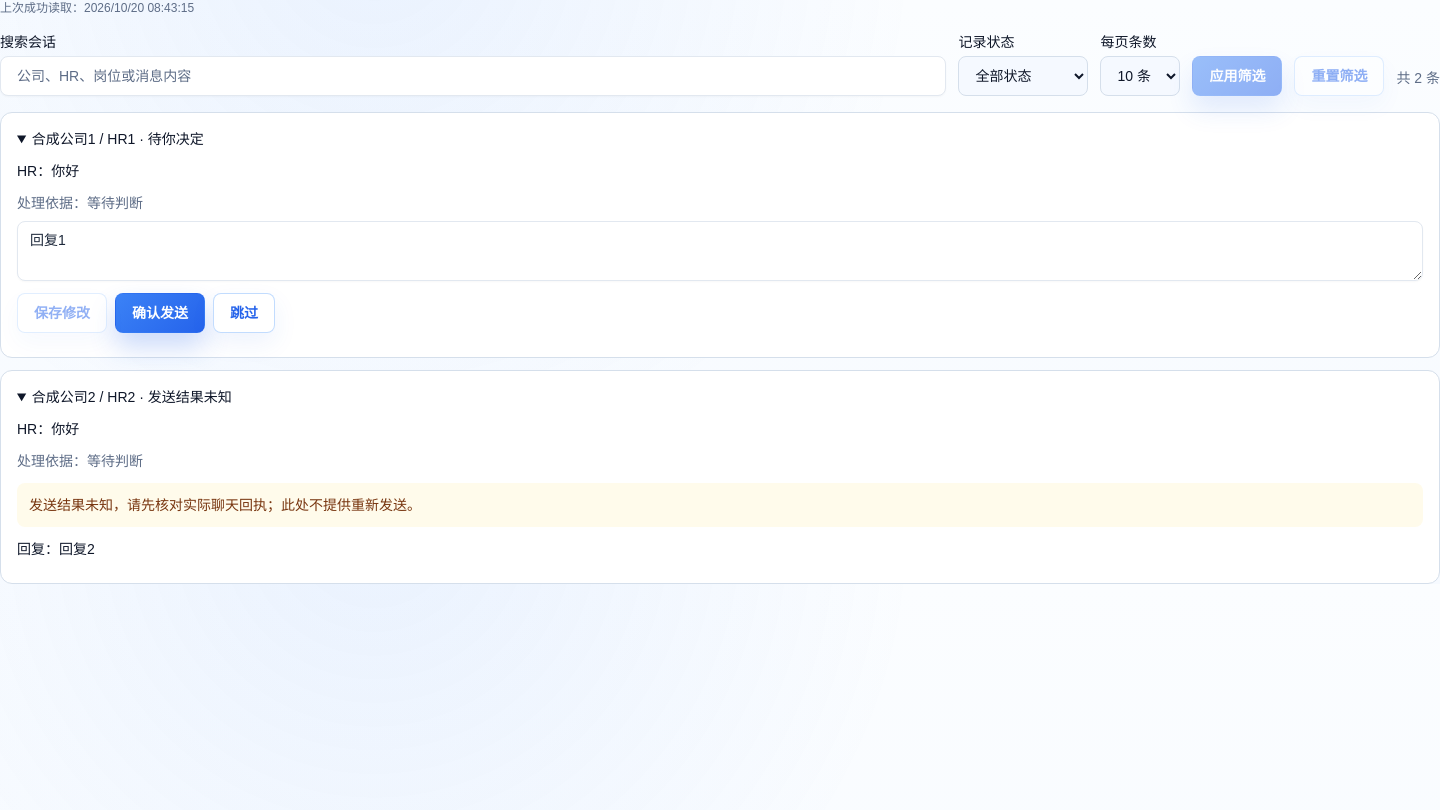
Test: applies edited filters explicitly and preserves reply drafts after searching and resetting
Expected: the heading "合成公司1 / HR1 · 待你决定" is shown, [32,131,204,147]
Expected: the text "发送结果未知，请先核对实际聊天回执；此处不提供重新发送。" is shown, [17,483,1423,527]
Replace the text in the text box named "回复 HR1" with "核对后答复": [720, 251] box [17,221,1423,281]
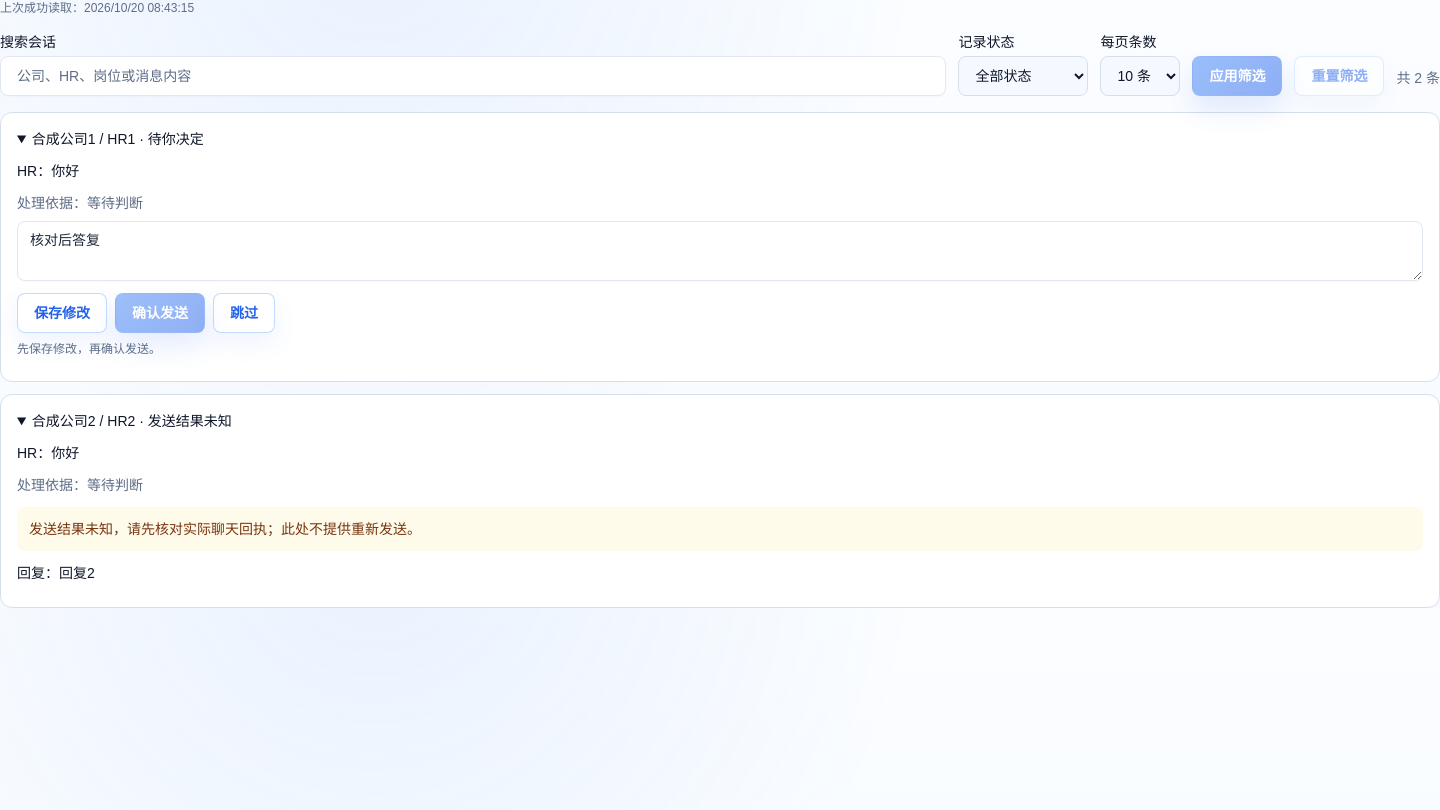
In the field labelled "搜索会话": [473, 76] box [0,56,946,96], type "未知"
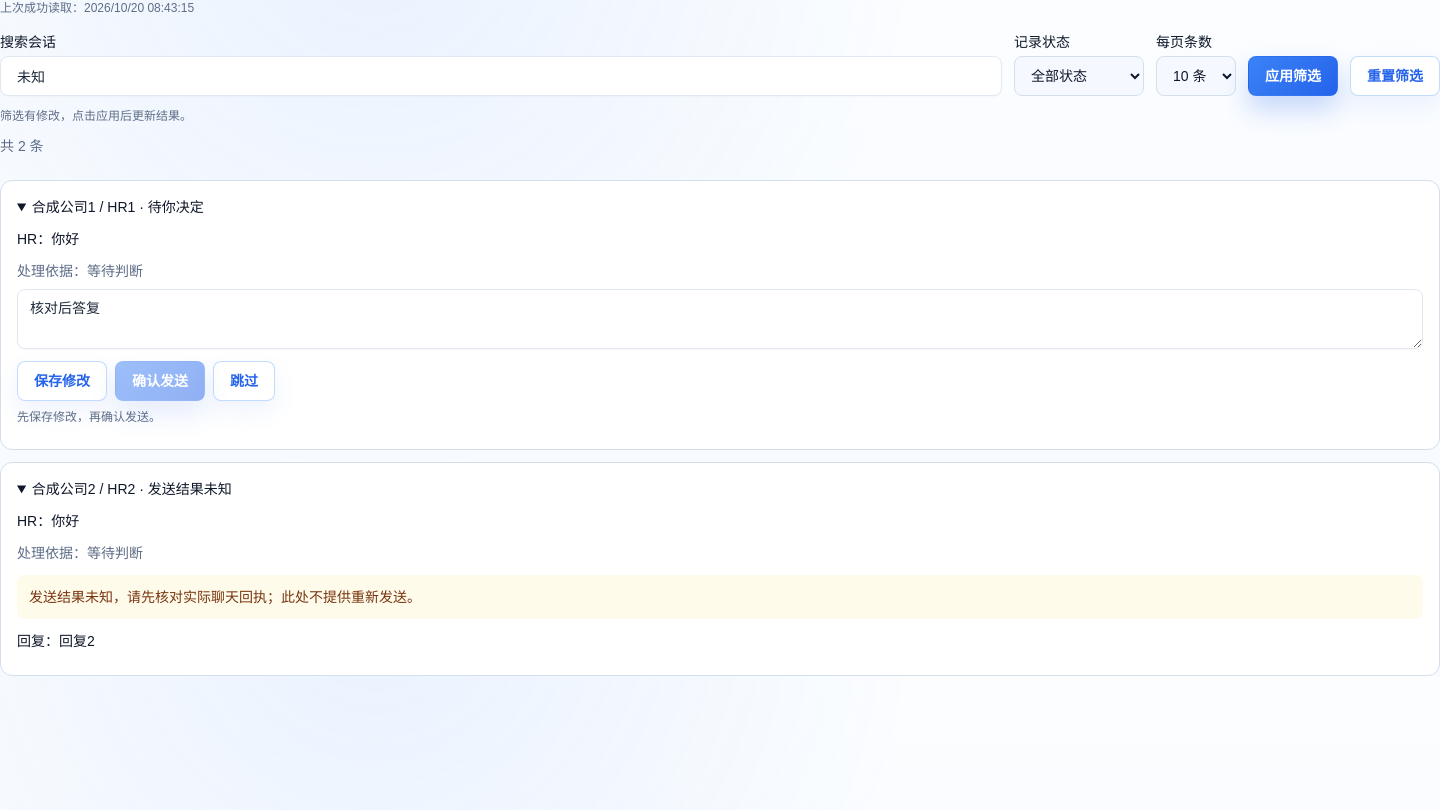
Click the button "应用筛选": [1293, 76] box [1248,56,1338,96]
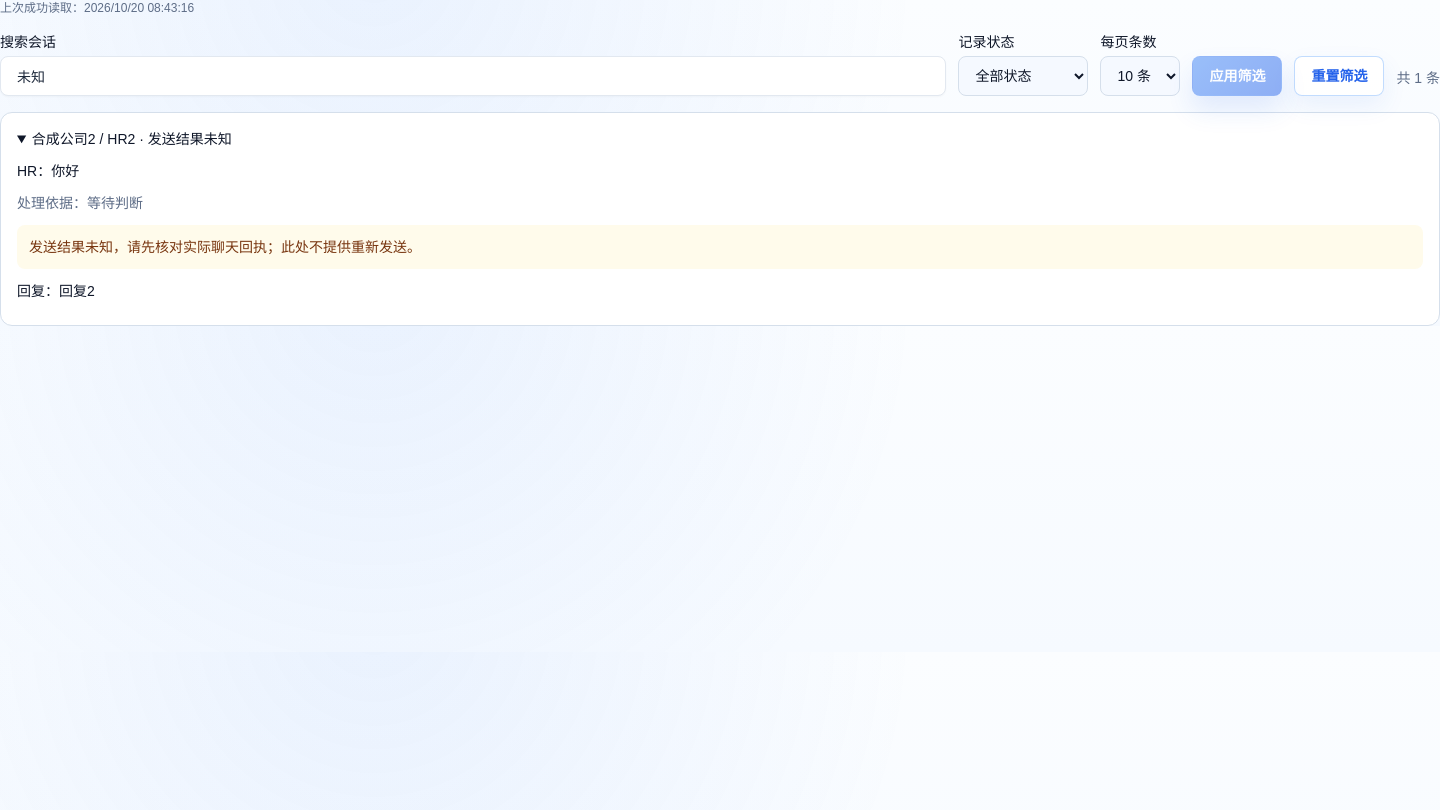
Expected: the text "共 1 条" is shown, [1396,70,1439,86]
Click the button "重置筛选": [1339, 76] box [1294,56,1384,96]
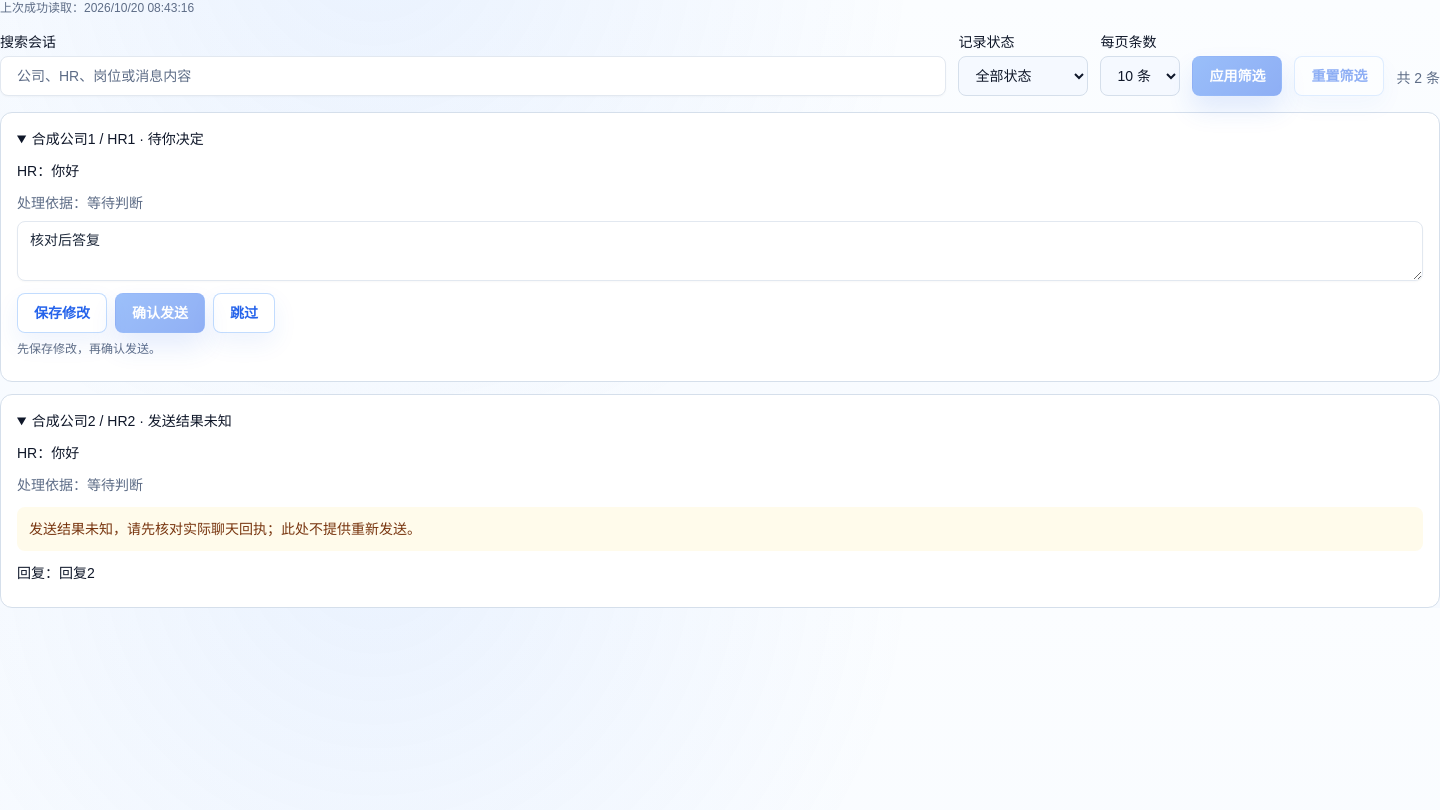
Expected: the text box named "回复 HR1" holds "核对后答复", [17,221,1423,281]
Expected: the field labelled "搜索会话" is empty, [0,56,946,96]
Expected: the button "确认发送" is disabled, [115,293,205,333]
